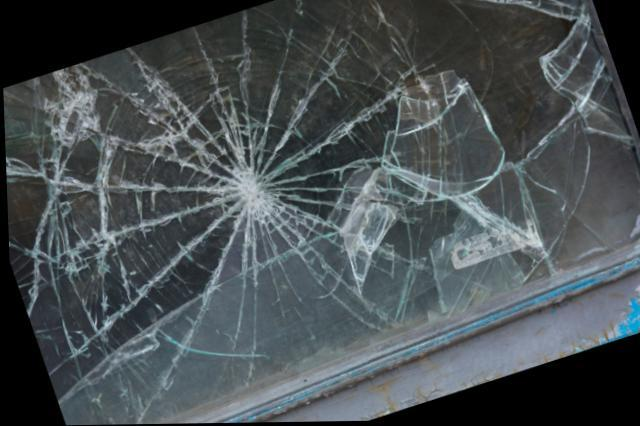glass shatter: (3, 0, 640, 425)
